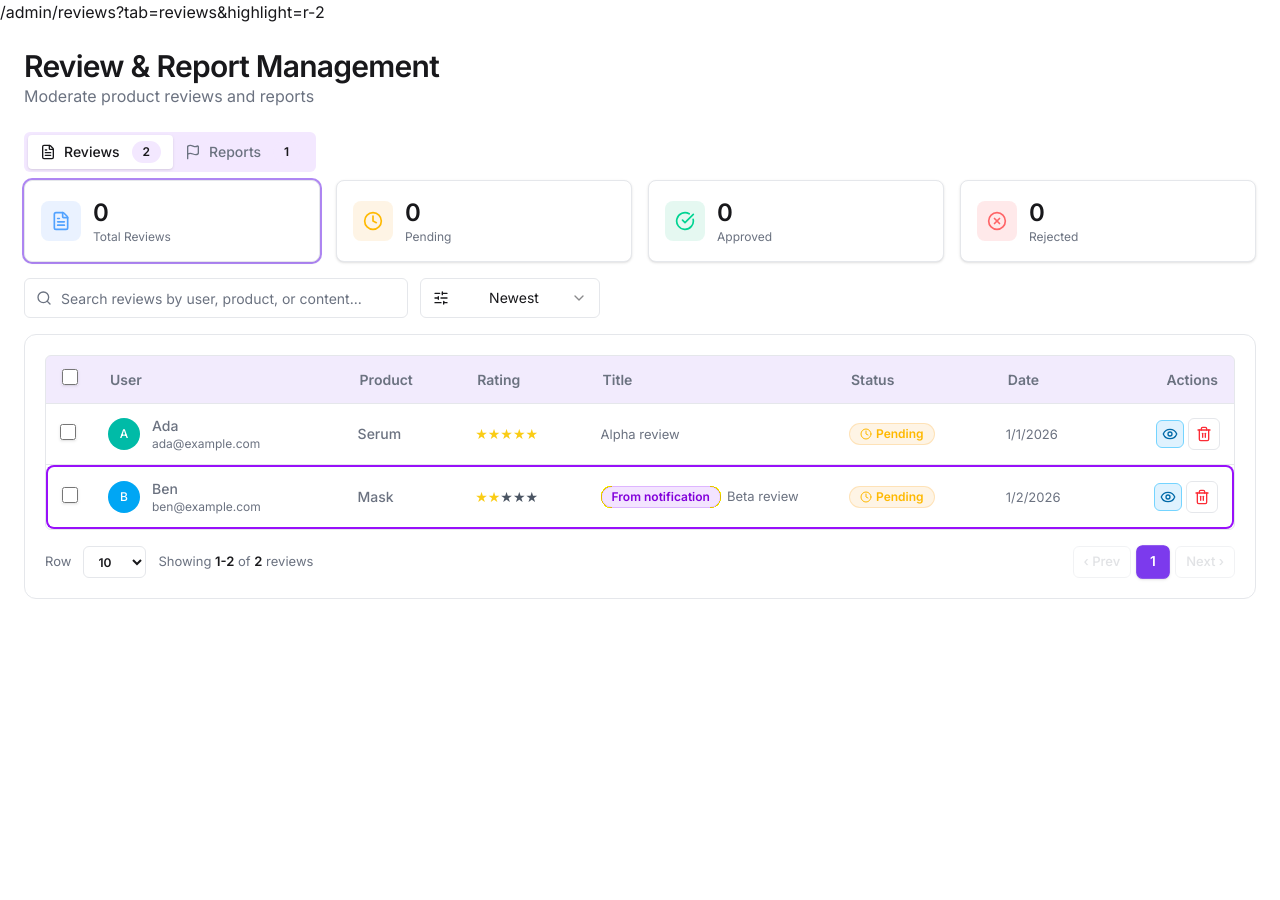
Test: ReviewManagement notification highlight › clears the highlight when the review detail modal is closed and removes the highlight param
expect the text "Beta review" is shown: met, box [727,488,799,504]
expect the text with test id "location" shows "highlight=r-2": met, box [0,2,325,22]
Click the button named "View review details" in the row of "ben@example.com": (1168, 497) [1154,483,1182,511]
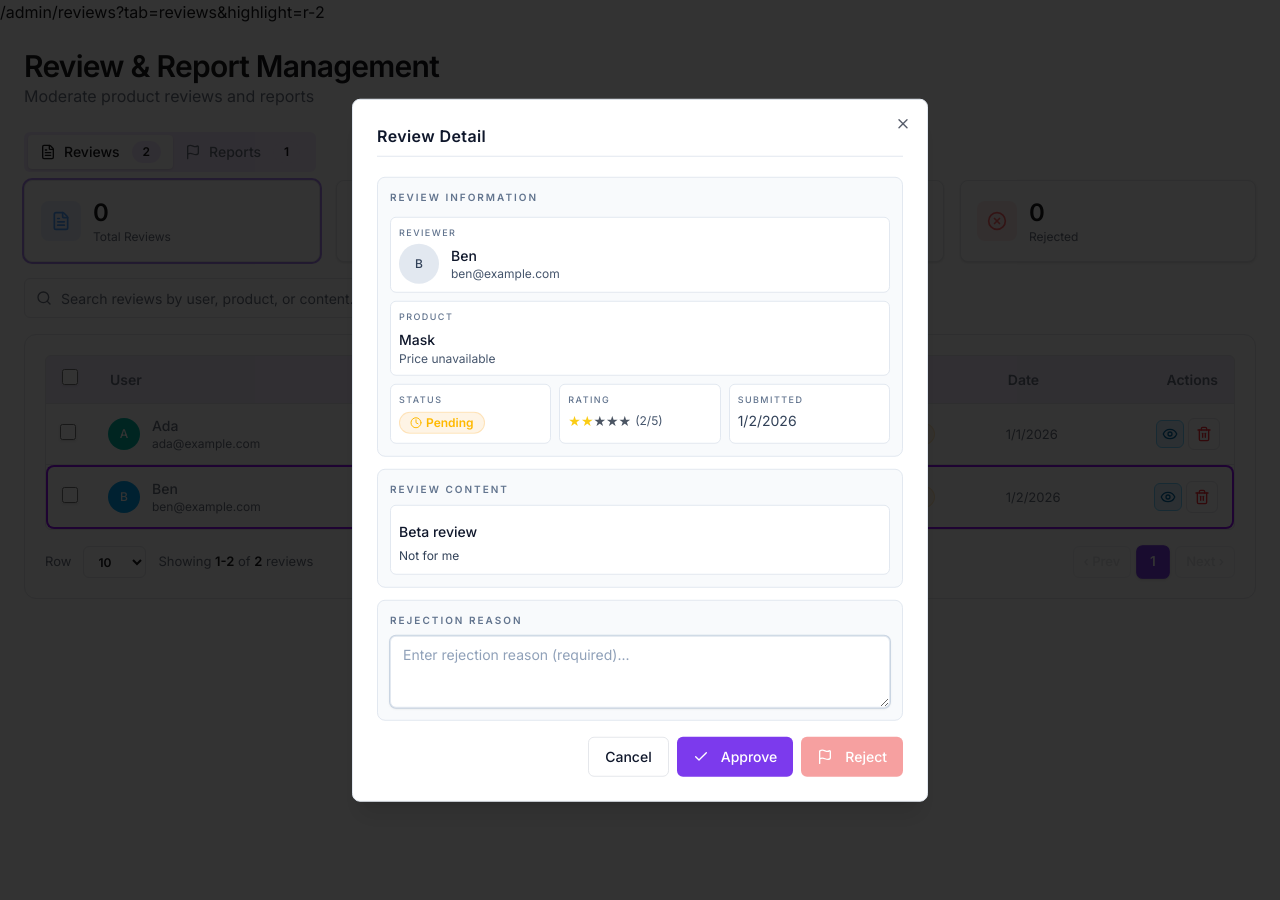
expect the dialog is shown: met, box [352,99,928,801]
Press Escape
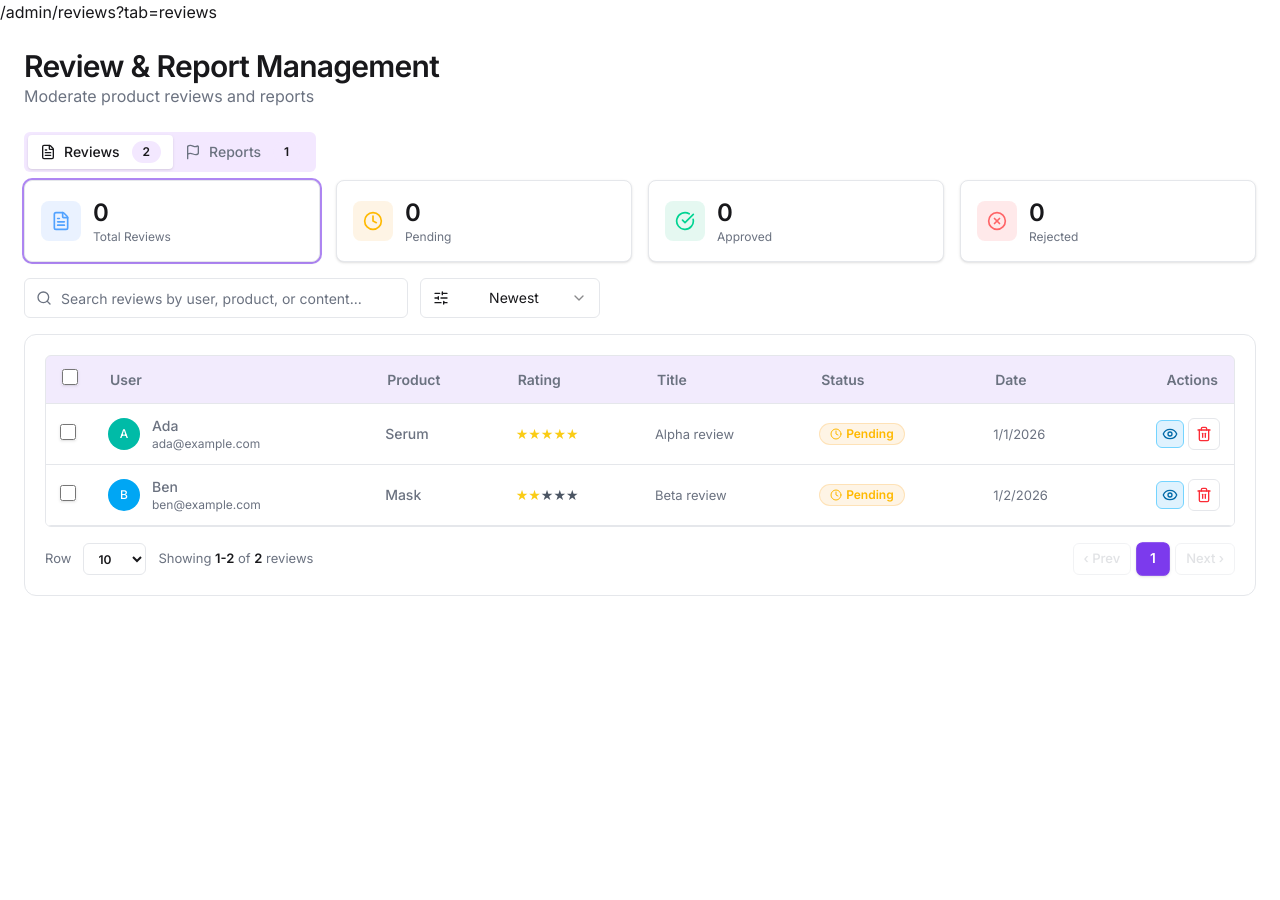
expect the dialog is gone: met
expect the text with test id "location" no longer shows "highlight": met, box [0,2,217,22]
expect the text "From notification" is gone: met
